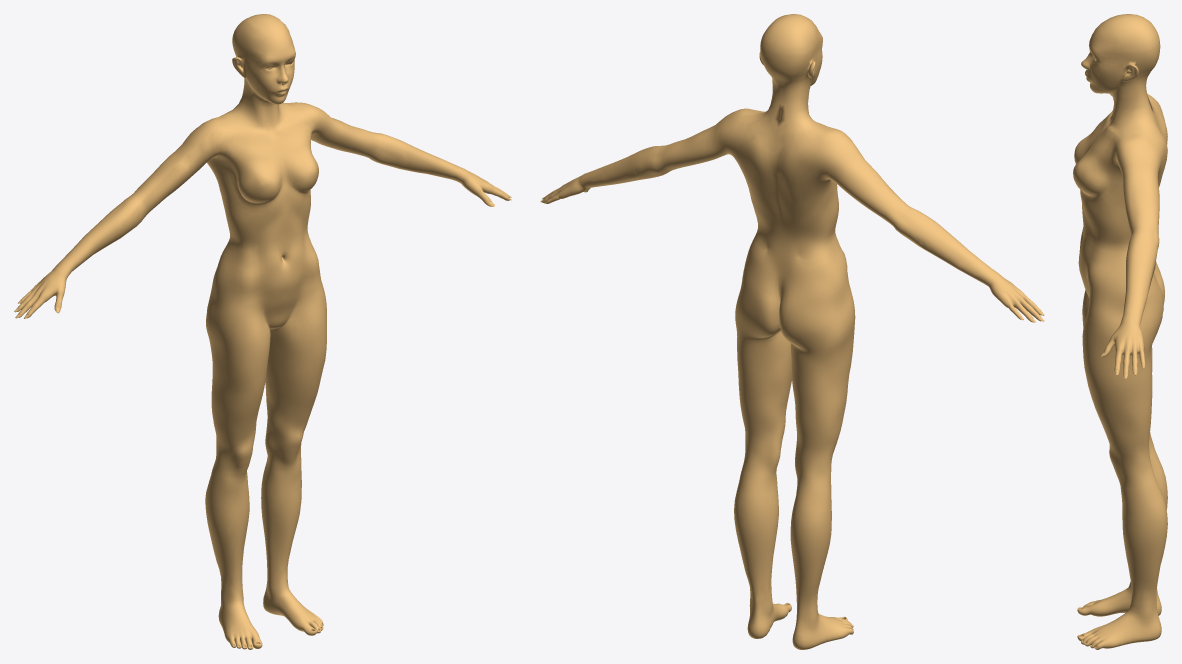
3 renders of one model, left to right at view 1: azimuth 30°, elevation 25°; view 2: azimuth 150°, elevation 25°; view 3: azimuth 270°, elevation 25°, orthographic.
Visible parts, largest first — view 1: Body; view 2: Body; view 3: Body.
Part boxes in pixels (x1,y1,x2,y2): Body: (16,14,511,649); Body: (542,14,1041,649); Body: (1073,14,1167,649).
Bounding box in the file's own units: 1.58 × 1.85 × 0.2597.
